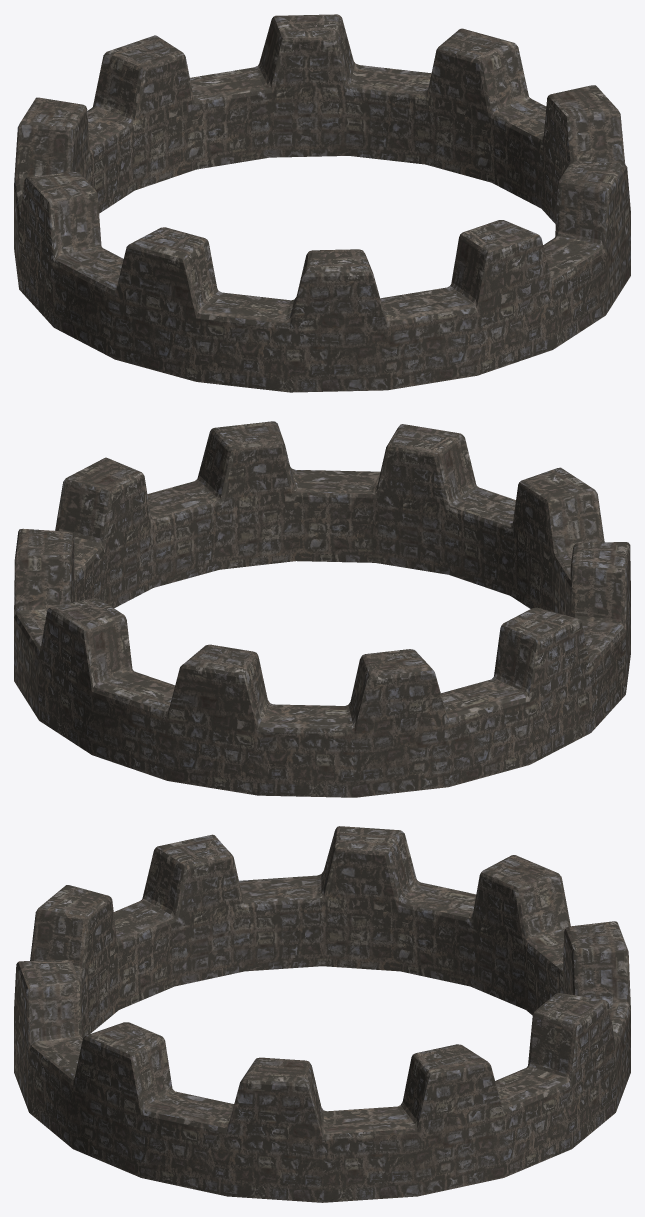
Rendered from TowerRoof_RoundStone.fbx.
The picture shows the model from 3 angles, top to bottom: view 1: azimuth 30°, elevation 25°; view 2: azimuth 150°, elevation 25°; view 3: azimuth 270°, elevation 25°; orthographic projection.
Visible parts, largest first — view 1: Round Tower Top Stone; view 2: Round Tower Top Stone; view 3: Round Tower Top Stone.
Part boxes in pixels (left/top/right/bottom): Round Tower Top Stone: left=14, top=14, right=630, bottom=392; Round Tower Top Stone: left=14, top=421, right=630, bottom=797; Round Tower Top Stone: left=14, top=826, right=630, bottom=1202.
Bounding box in the file's own units: 601 × 128 × 601.
